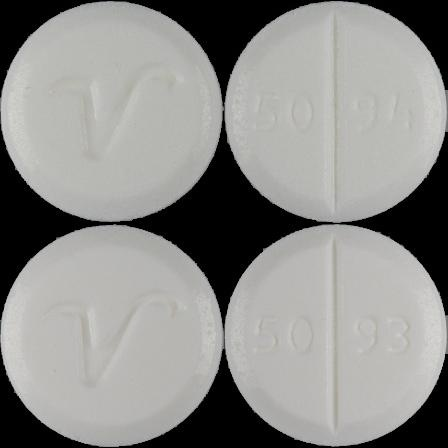33261-351: (0, 0, 224, 224)
